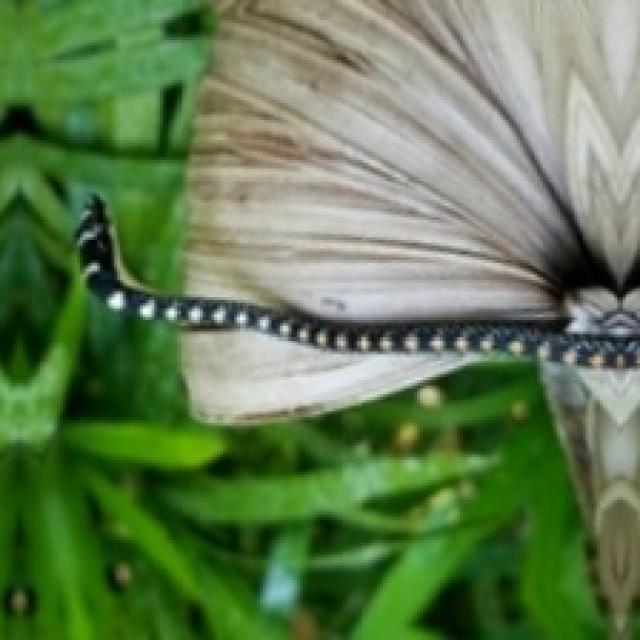paradise tree snake: (71, 194, 640, 367)
